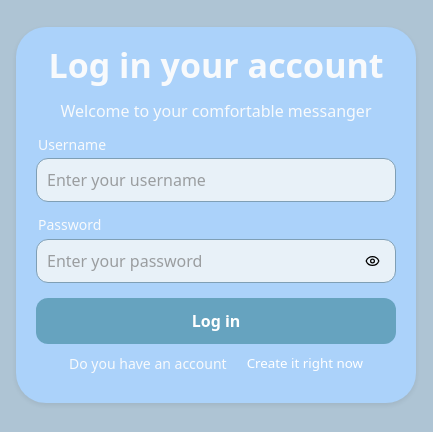
Test case: Пустая форма показывает ошибку имени и не вызывает вход
Click the button "Log in".
click(216, 321)  # box [36, 298, 396, 344]
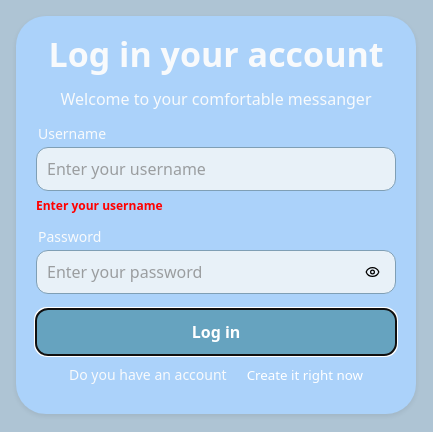
Expected: the text "Enter your username" is shown, [36, 197, 163, 214]
